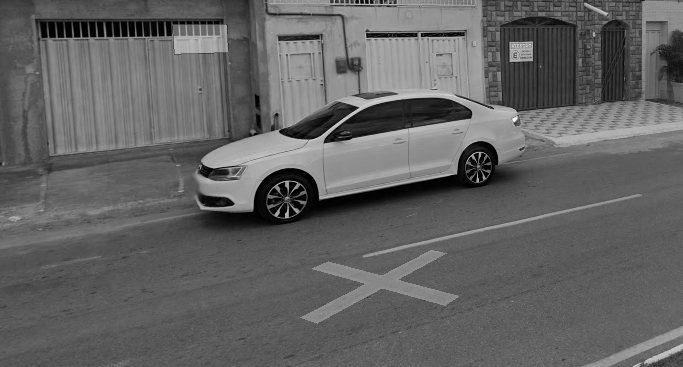car: (185, 82, 531, 225)
